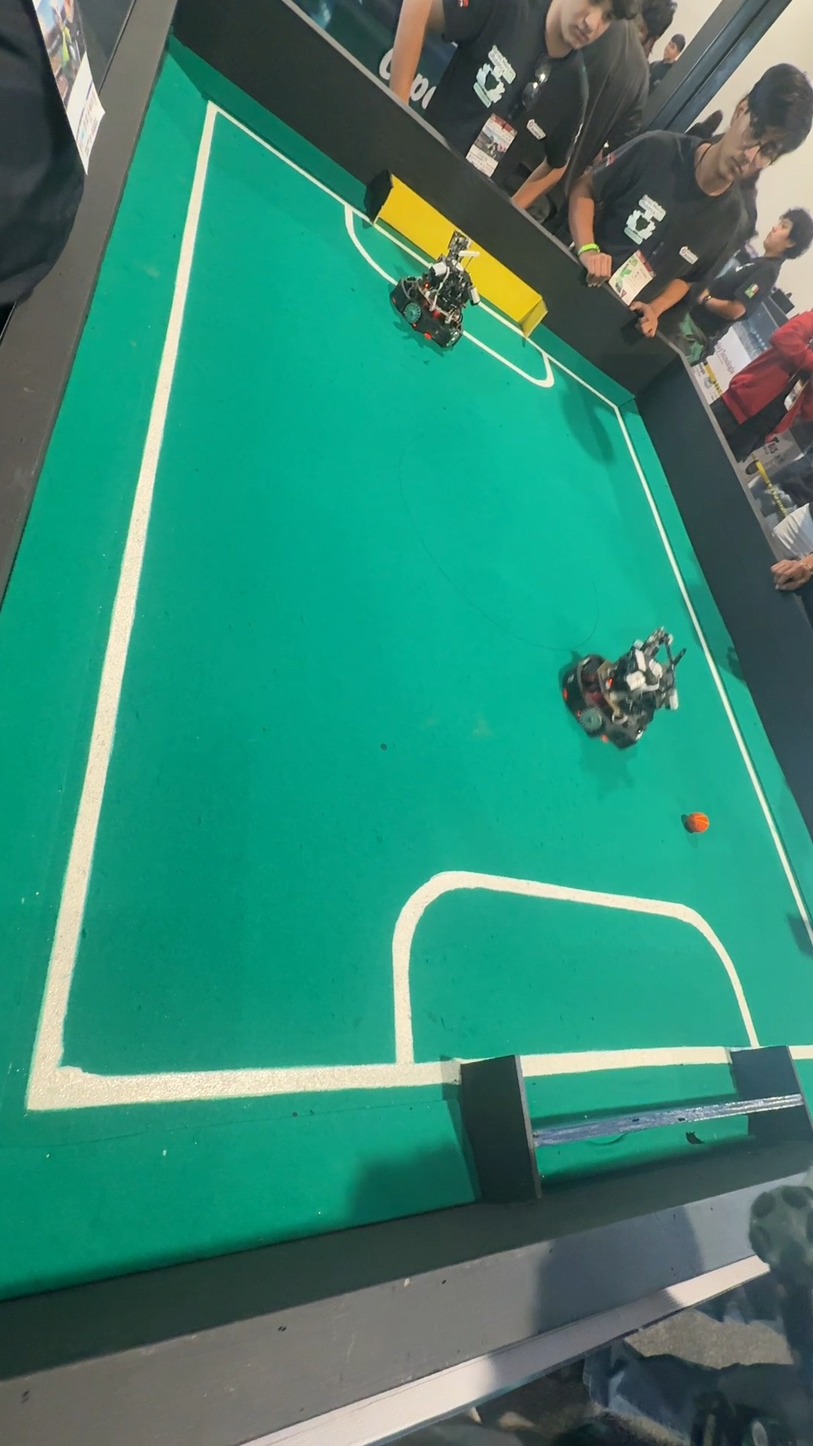Robot: (557, 604, 677, 754), (384, 228, 480, 369)
pelota: (681, 803, 716, 839)
